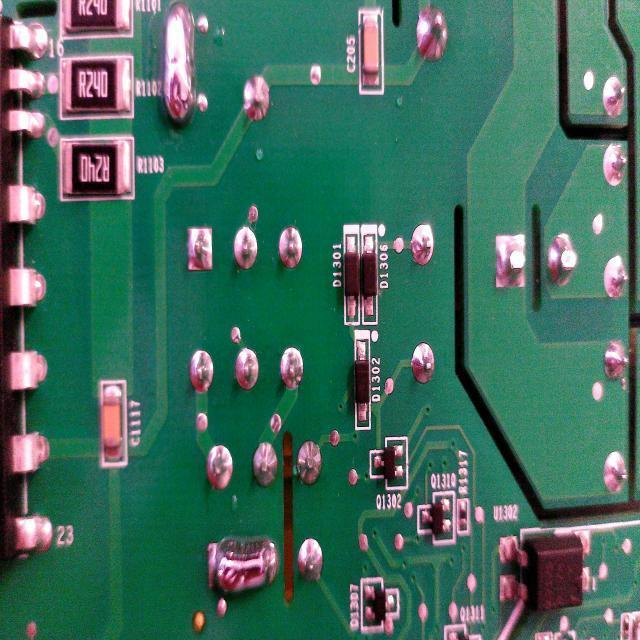Soldering shorted: (208, 532, 278, 600), (160, 2, 197, 126)
